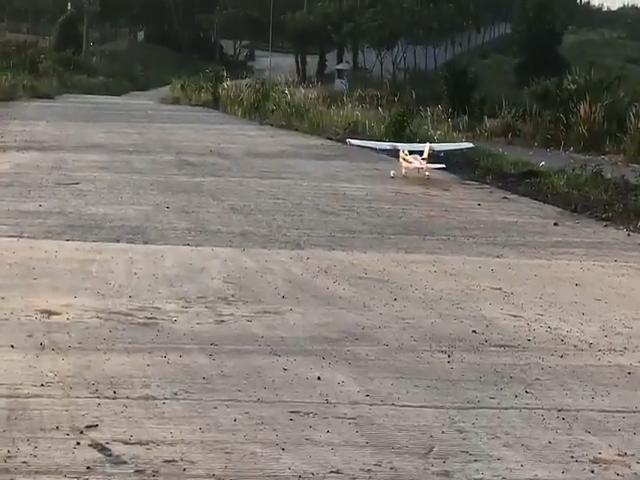plane: (347, 137, 474, 182)
